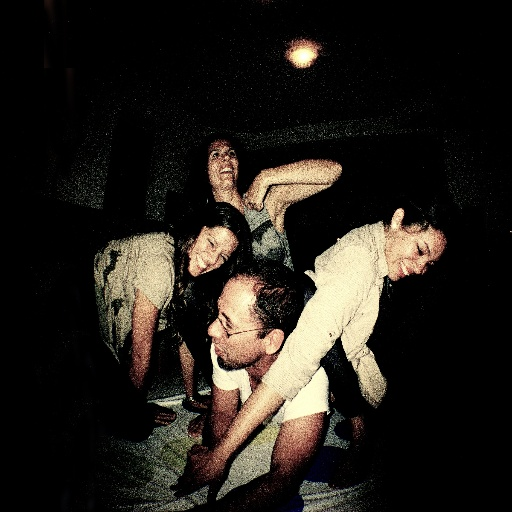hand: (184, 424, 238, 495), (168, 464, 229, 503), (244, 173, 268, 211), (153, 405, 176, 426), (189, 393, 211, 410)
